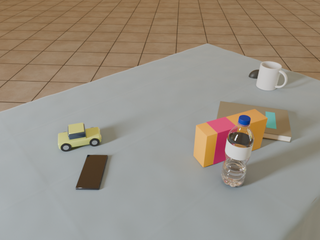book: (217, 101, 292, 142)
bottle: (221, 115, 254, 188)
box: (194, 109, 268, 167)
cup: (256, 62, 287, 90)
mouse: (249, 70, 259, 79)
phone: (76, 155, 108, 190)
toy_car: (58, 123, 101, 151)
